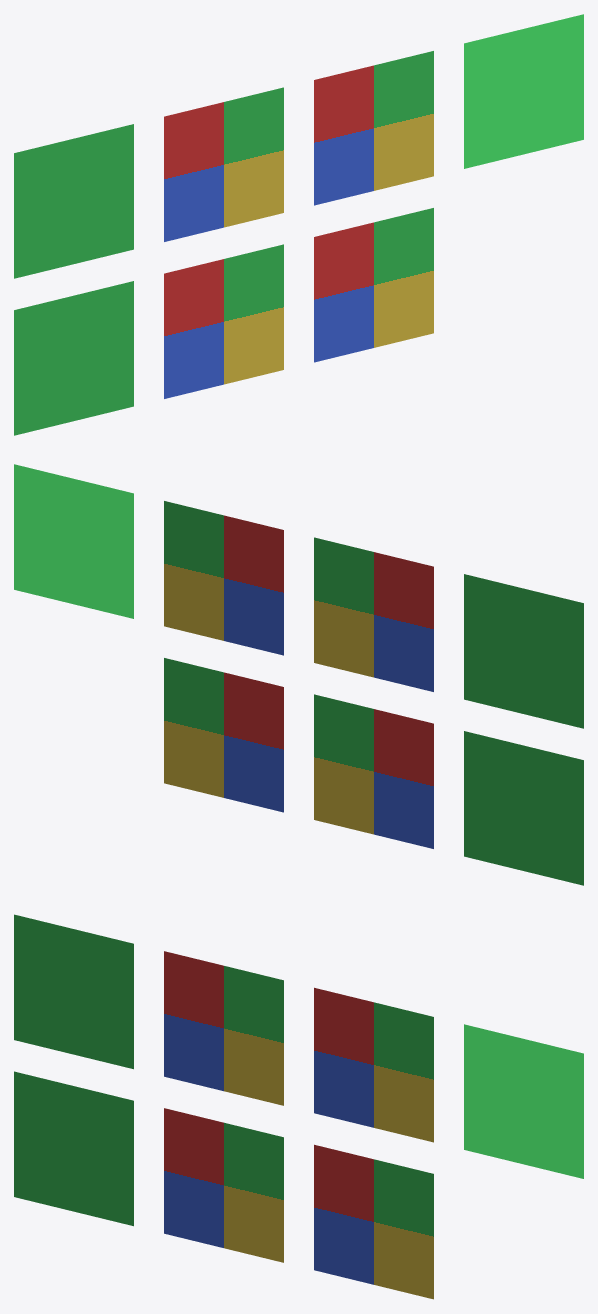
Rendered from gltf-uv-sets.gltf.
3 renders of one model, top to bottom at view 1: azimuth 30°, elevation 25°; view 2: azimuth 150°, elevation 25°; view 3: azimuth 330°, elevation 25°, orthographic.
Parts seen in each view (by area): view 1: MetallicRoughnessUv1, NormalUv1, OcclusionUvSplit, OcclusionUv2WithMetallicRoughness, BaseColorUv1, EmissiveUv1, BaseColorTransformTexCoord; view 2: MetallicRoughnessUv1, NormalUv1, OcclusionUvSplit, OcclusionUv2WithMetallicRoughness, BaseColorUv1, EmissiveUv1, BaseColorTransformTexCoord; view 3: BaseColorUv1, NormalUv1, BaseColorTransformTexCoord, OcclusionUv2WithMetallicRoughness, MetallicRoughnessUv1, EmissiveUv1, OcclusionUvSplit.
Boxes of the visible parts, x1,y1,x2,y2 form: MetallicRoughnessUv1: (164,87,283,241); NormalUv1: (314,51,433,205); OcclusionUvSplit: (164,244,283,398); OcclusionUv2WithMetallicRoughness: (314,208,433,362); BaseColorUv1: (14,124,133,278); EmissiveUv1: (464,14,583,168); BaseColorTransformTexCoord: (14,281,133,435); MetallicRoughnessUv1: (314,537,433,691); NormalUv1: (164,501,283,655); OcclusionUvSplit: (314,694,433,848); OcclusionUv2WithMetallicRoughness: (164,658,283,812); BaseColorUv1: (464,574,583,728); EmissiveUv1: (14,464,133,618); BaseColorTransformTexCoord: (464,731,583,885); BaseColorUv1: (14,914,133,1069); NormalUv1: (314,987,433,1142); BaseColorTransformTexCoord: (14,1071,133,1226); OcclusionUv2WithMetallicRoughness: (314,1144,433,1299); MetallicRoughnessUv1: (164,951,283,1105); EmissiveUv1: (464,1024,583,1178); OcclusionUvSplit: (164,1108,283,1262).
Size of the model in its own units: 4.75 by 2.25 by 0.
Materials: 7 (7 with a texture image).
